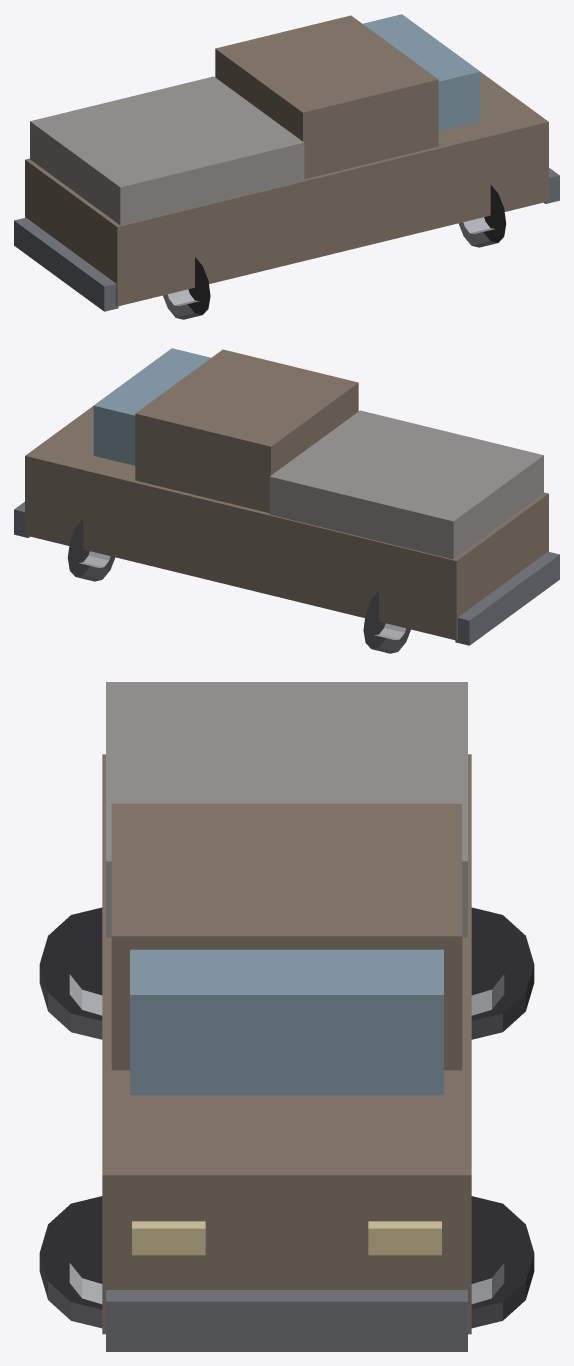
Rendered from car_pickup.glb.
The picture shows the model from 3 angles, top to bottom: view 1: azimuth 30°, elevation 25°; view 2: azimuth 150°, elevation 25°; view 3: azimuth 270°, elevation 25°; orthographic projection. The views are drawn at different scales.
Visible parts, largest first — view 1: Car_pickup_body, Car_pickup_bed, Car_pickup_cab, Car_pickup_glassF, Car_pickup_bumperR, Car_pickup_wheelFL_tire, Car_pickup_wheelRL_tire; view 2: Car_pickup_body, Car_pickup_bed, Car_pickup_cab, Car_pickup_glassF, Car_pickup_bumperR, Car_pickup_wheelFR_tire, Car_pickup_wheelRR_tire; view 3: Car_pickup_body, Car_pickup_cab, Car_pickup_glassF, Car_pickup_bed, Car_pickup_bumperF, Car_pickup_wheelRL_tire, Car_pickup_wheelRR_tire, Car_pickup_wheelFL_tire, Car_pickup_wheelFR_tire, Car_pickup_lightL, Car_pickup_lightR.
Boxes of the visible parts, <box> form: Car_pickup_body: <box>25,72,548,306</box>; Car_pickup_bed: <box>30,76,304,225</box>; Car_pickup_cab: <box>215,15,438,179</box>; Car_pickup_glassF: <box>363,14,480,131</box>; Car_pickup_bumperR: <box>14,217,118,311</box>; Car_pickup_wheelFL_tire: <box>458,184,506,247</box>; Car_pickup_wheelRL_tire: <box>163,257,210,319</box>; Car_pickup_body: <box>25,406,548,640</box>; Car_pickup_bed: <box>269,410,543,559</box>; Car_pickup_cab: <box>135,349,358,513</box>; Car_pickup_glassF: <box>93,348,210,465</box>; Car_pickup_bumperR: <box>455,551,559,645</box>; Car_pickup_wheelFR_tire: <box>67,518,115,581</box>; Car_pickup_wheelRR_tire: <box>363,591,410,653</box>; Car_pickup_body: <box>102,754,471,1334</box>; Car_pickup_cab: <box>111,803,462,1070</box>; Car_pickup_glassF: <box>130,949,443,1095</box>; Car_pickup_bed: <box>106,682,467,937</box>; Car_pickup_bumperF: <box>106,1290,467,1351</box>; Car_pickup_wheelRL_tire: <box>39,907,102,1039</box>; Car_pickup_wheelRR_tire: <box>471,907,534,1039</box>; Car_pickup_wheelFL_tire: <box>39,1196,102,1328</box>; Car_pickup_wheelFR_tire: <box>471,1196,534,1328</box>; Car_pickup_lightL: <box>132,1221,205,1255</box>; Car_pickup_lightR: <box>368,1221,441,1255</box>.
Bounding box in the file's own units: 5.7 × 2.06 × 2.68.
